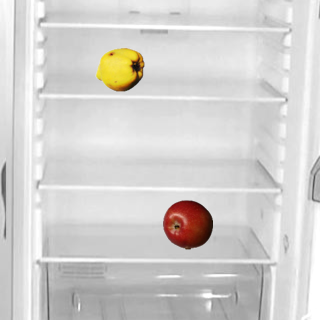Apple Braeburn: (162, 199, 212, 249)
Quince: (94, 44, 144, 94)
